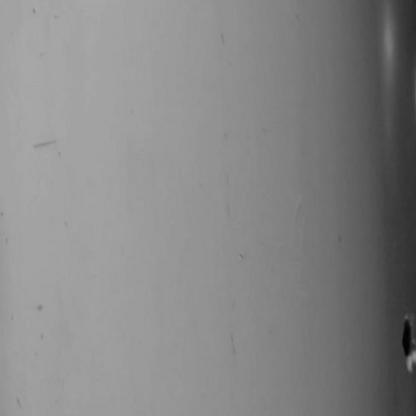kongdong: (386, 303, 416, 378)
